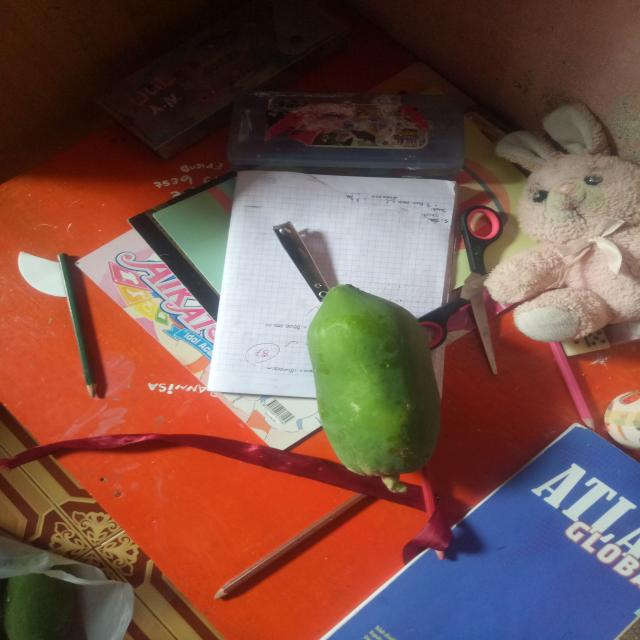Pepaya unrippen: (305, 273, 435, 479)
